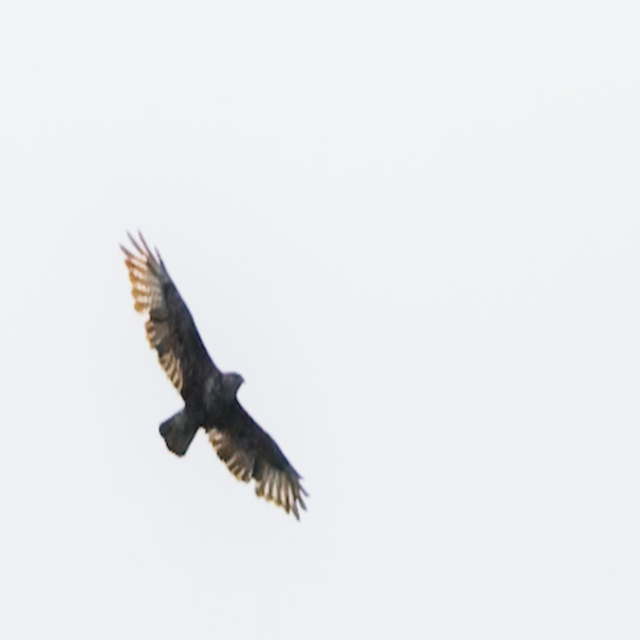Eagle: (111, 220, 314, 527)
